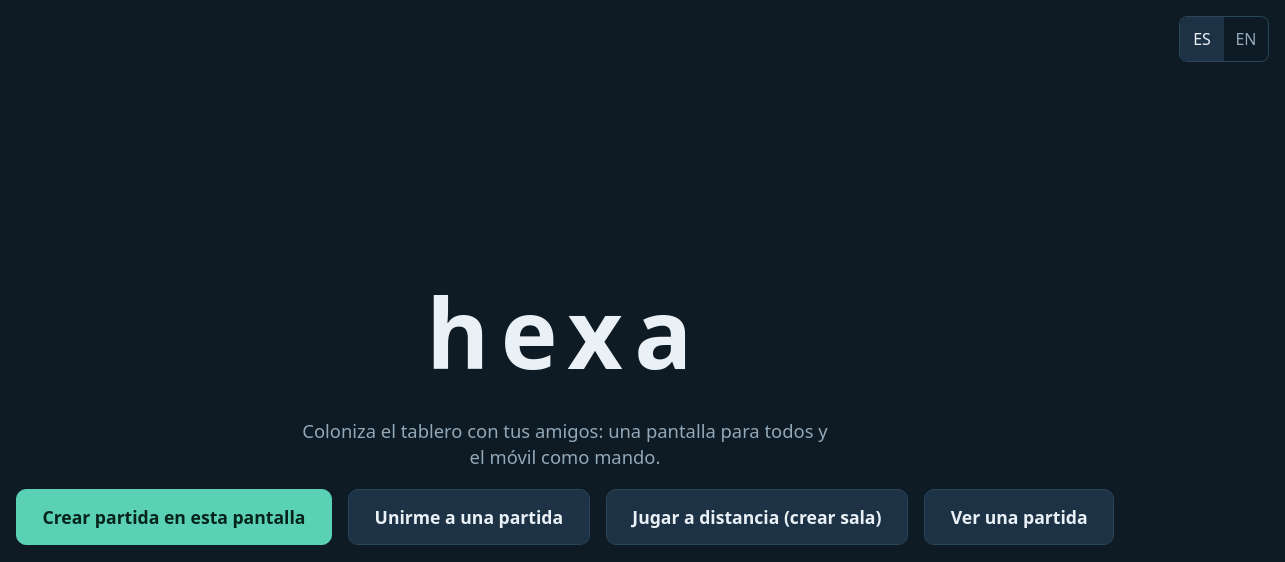
rutas › el selector de idioma cambia los textos
The width and height of the screenshot is (1285, 562).
Click the button "EN" at (1246, 39), box x1=1224 y1=17 x2=1268 y2=61
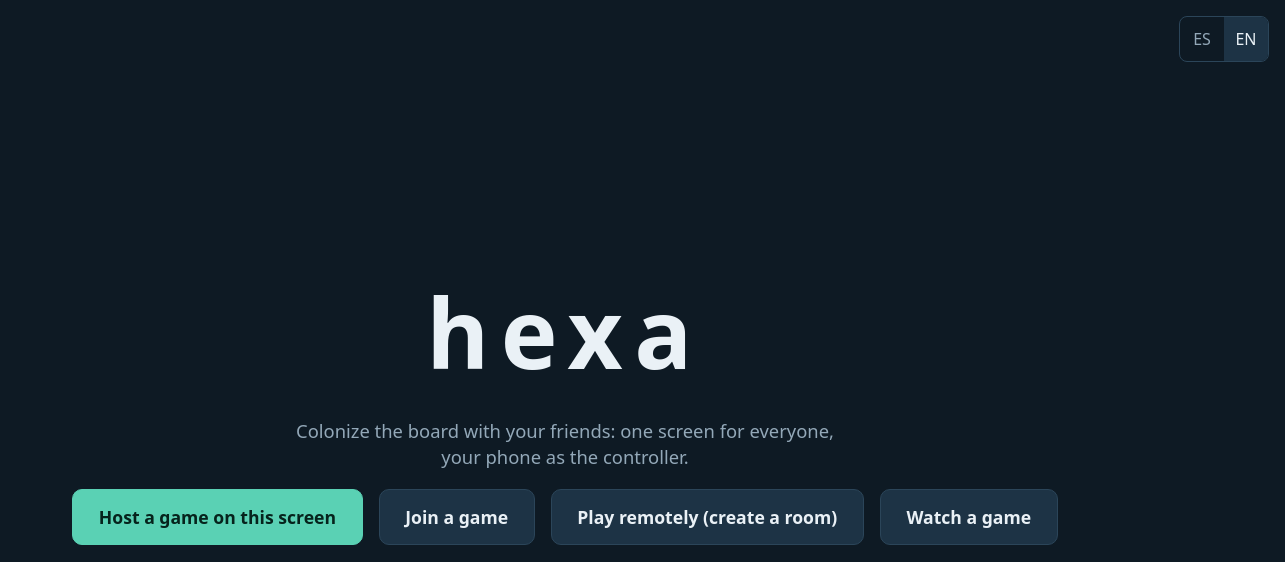
expect the link "Host a game on this screen" is shown: met, box x1=72 y1=489 x2=363 y2=545
